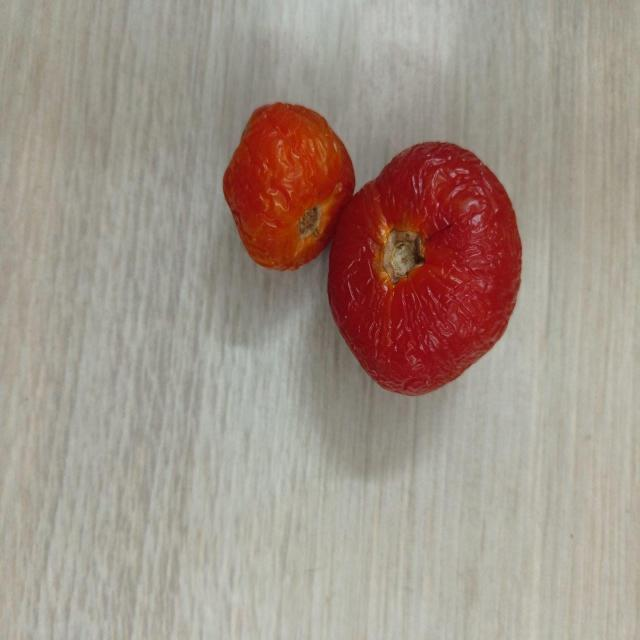overripe: (328, 137, 524, 398), (219, 100, 356, 273)
